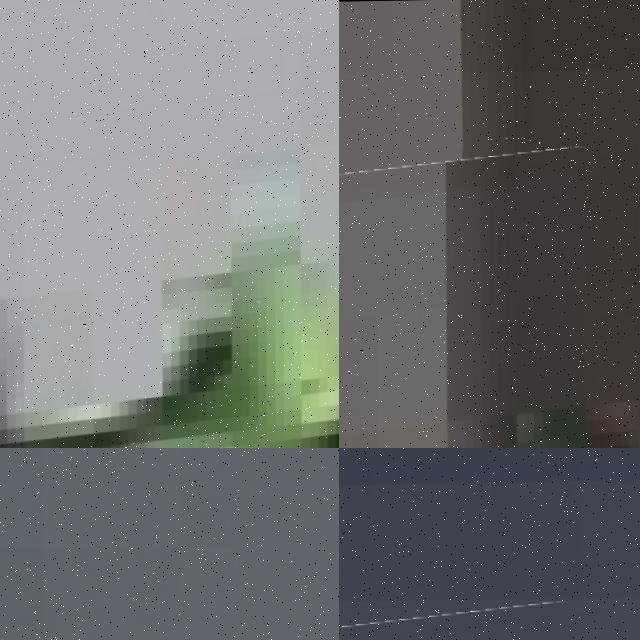drone: (0, 0, 339, 448), (339, 140, 640, 448), (339, 595, 640, 640)
